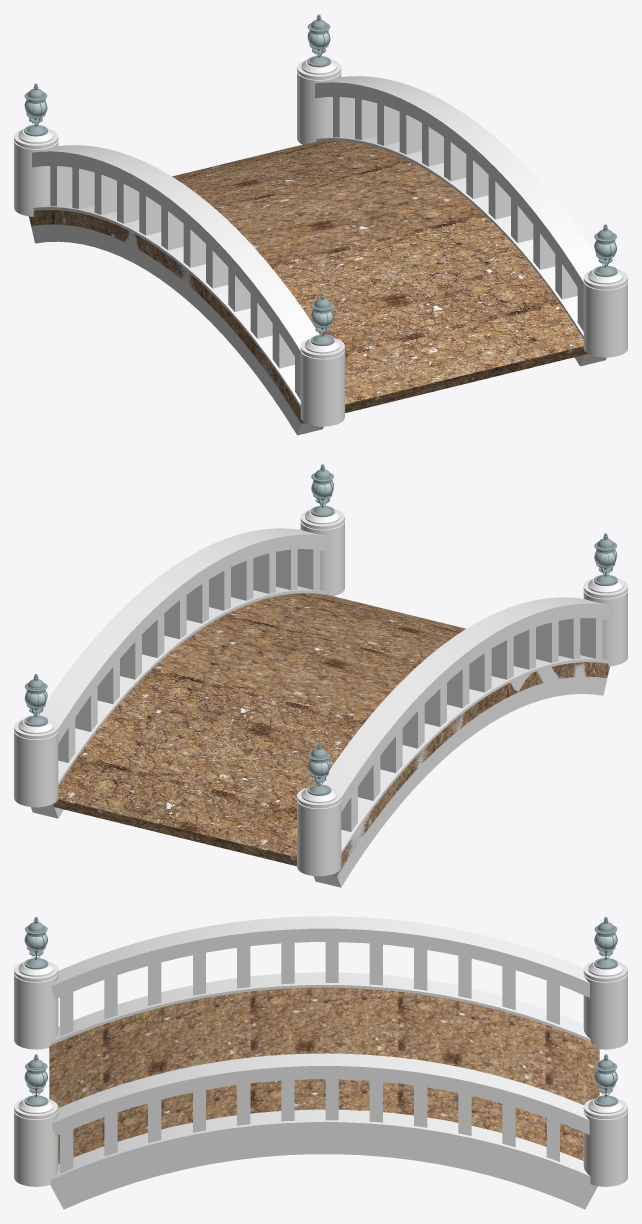
3 renders of one model, top to bottom at view 1: azimuth 30°, elevation 25°; view 2: azimuth 150°, elevation 25°; view 3: azimuth 270°, elevation 25°, orthographic.
Visible parts, largest first — view 1: Arc03, Arc18, Arc19, Shape38, Shape37, Circle01, Circle08, Circle15, Circle12, Box14, Box17, Box13 (+19 smaller); view 2: Arc03, Arc18, Arc19, Shape38, Shape37, Circle15, Circle12, Circle01, Circle08, Box02, Box15, Box04 (+19 smaller); view 3: Arc03, Shape37, Arc18, Arc19, Shape38, Circle08, Circle01, Circle12, Circle15, Box21, Box07, Box10 (+21 smaller).
Boxes of the visible parts, bbox=[...] form: Arc03: bbox=[29, 141, 587, 423]; Arc18: bbox=[315, 76, 602, 296]; Arc19: bbox=[32, 145, 319, 365]; Shape38: bbox=[31, 203, 323, 435]; Shape37: bbox=[316, 134, 606, 366]; Circle01: bbox=[300, 349, 344, 426]; Circle08: bbox=[583, 281, 627, 357]; Circle15: bbox=[14, 140, 58, 216]; Circle12: bbox=[297, 71, 341, 144]; Box14: bbox=[50, 166, 72, 206]; Box17: bbox=[355, 98, 377, 139]; Box13: bbox=[72, 167, 94, 208]; Arc03: bbox=[53, 593, 609, 875]; Arc18: bbox=[37, 528, 326, 743]; Arc19: bbox=[320, 597, 609, 811]; Shape38: bbox=[313, 655, 608, 887]; Shape37: bbox=[31, 586, 325, 818]; Circle15: bbox=[297, 799, 341, 876]; Circle12: bbox=[14, 730, 58, 807]; Circle01: bbox=[583, 590, 627, 666]; Circle08: bbox=[300, 521, 344, 596]; Box02: bbox=[580, 618, 602, 659]; Box15: bbox=[297, 549, 319, 590]; Box04: bbox=[558, 618, 580, 659]; Arc03: bbox=[49, 987, 599, 1163]; Shape37: bbox=[50, 1109, 597, 1209]; Arc18: bbox=[52, 1053, 589, 1136]; Arc19: bbox=[52, 916, 589, 998]; Shape38: bbox=[51, 972, 590, 1045]; Circle08: bbox=[14, 1110, 58, 1186]; Circle01: bbox=[14, 973, 58, 1049]; Circle12: bbox=[583, 1110, 627, 1186]; Circle15: bbox=[583, 973, 627, 1049]; Box21: bbox=[325, 1079, 338, 1120]; Box07: bbox=[237, 946, 250, 988]; Box10: bbox=[369, 943, 382, 985].
Size of the model in its own units: 63596 by 28246 by 105771.
